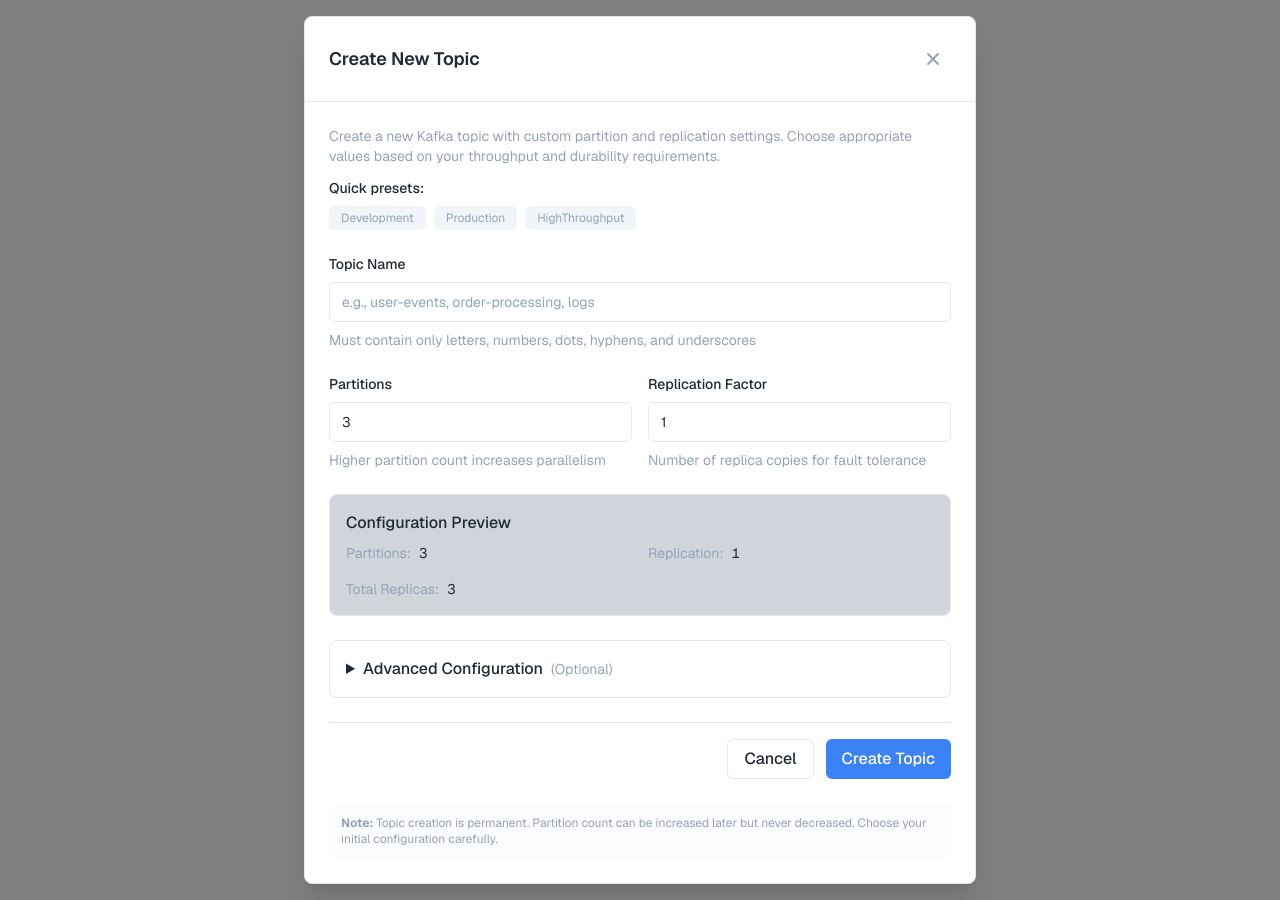
it: CreateTopicModal › should apply production preset correctly
Click production preset
Click the button "Production" at (476, 218), box [434,206,517,230]
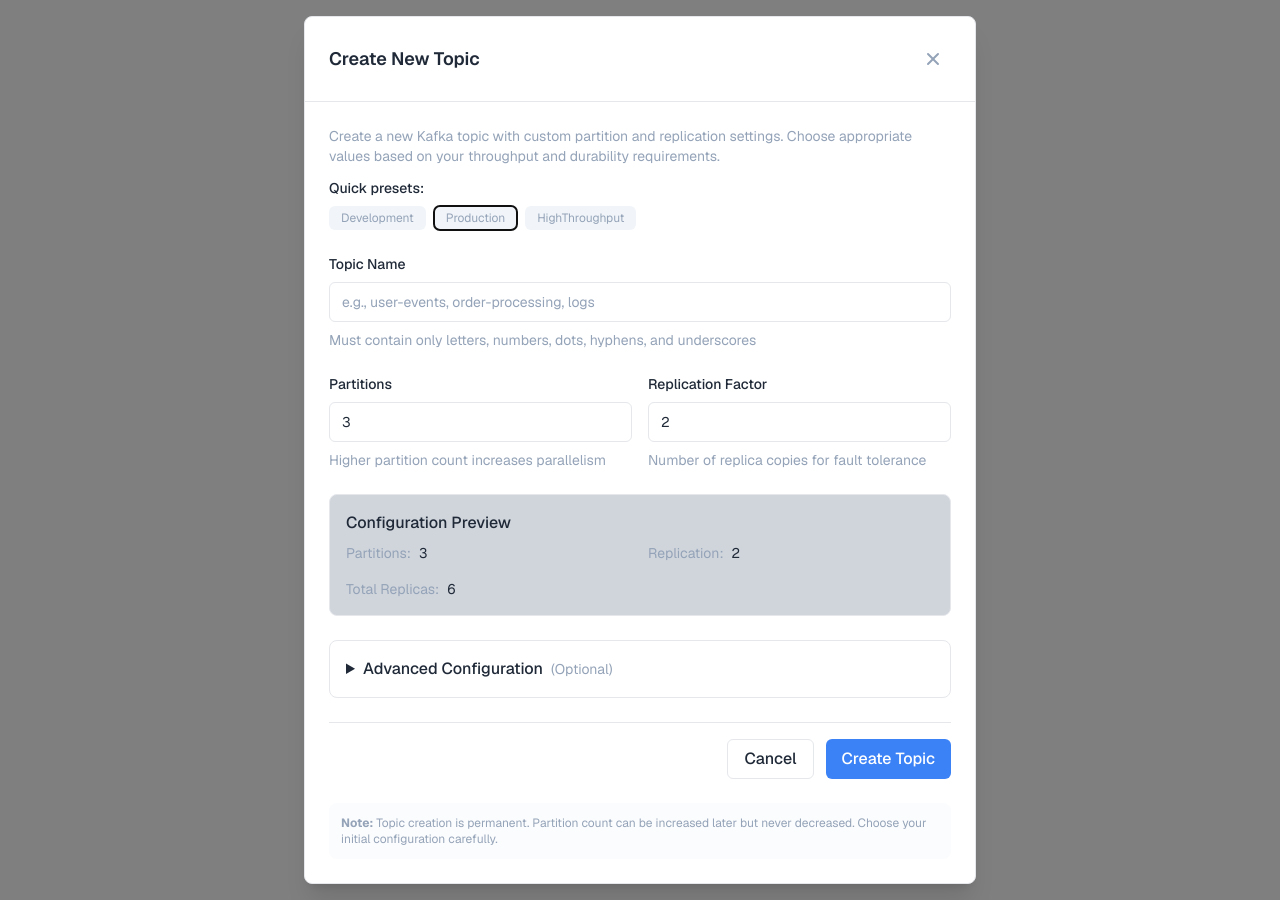
Expected: the number field labelled "Partitions" holds "3", [329,402,632,442]
Expected: the number field labelled "Replication Factor" holds "2", [648,402,951,442]
